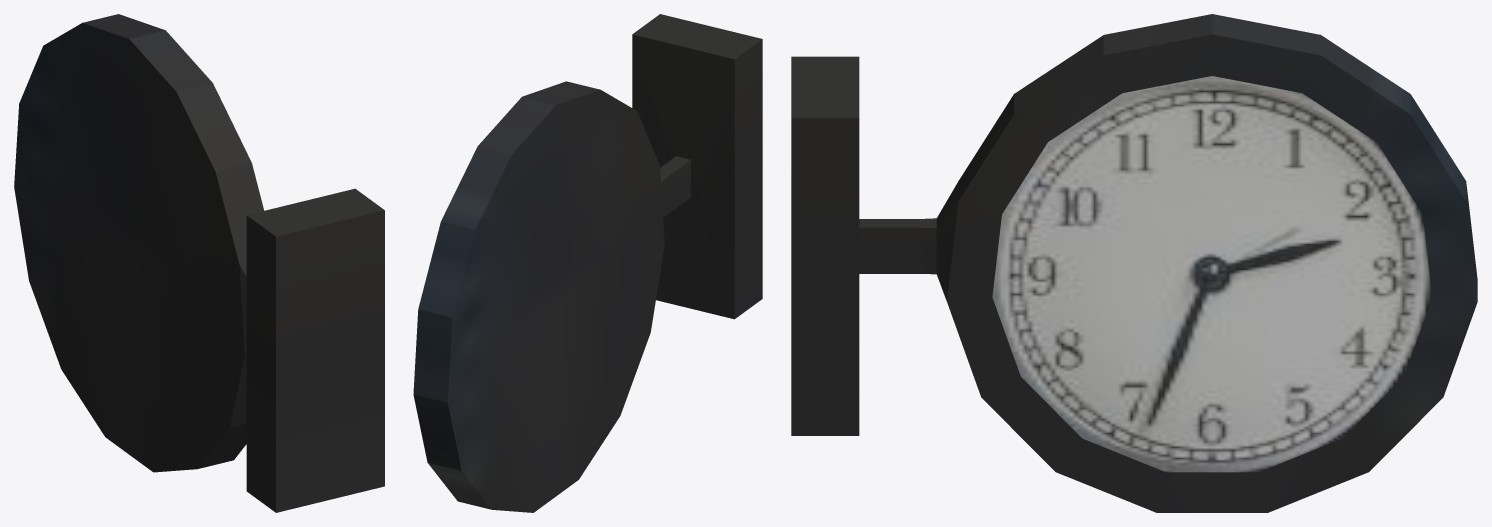
Rendered from Clockwall.fbx.
3 renders of one model, left to right at view 1: azimuth 30°, elevation 25°; view 2: azimuth 150°, elevation 25°; view 3: azimuth 270°, elevation 25°, orthographic. The views are drawn at different scales.
Visible parts, largest first — view 1: CLOCK; view 2: CLOCK; view 3: CLOCK.
Boxes of the visible parts, x1,y1,x2,y2 form: CLOCK: [14, 14, 384, 512]; CLOCK: [413, 14, 762, 512]; CLOCK: [791, 14, 1477, 512].
Size of the model in its own units: 0.5415 by 1.98 by 2.57.
